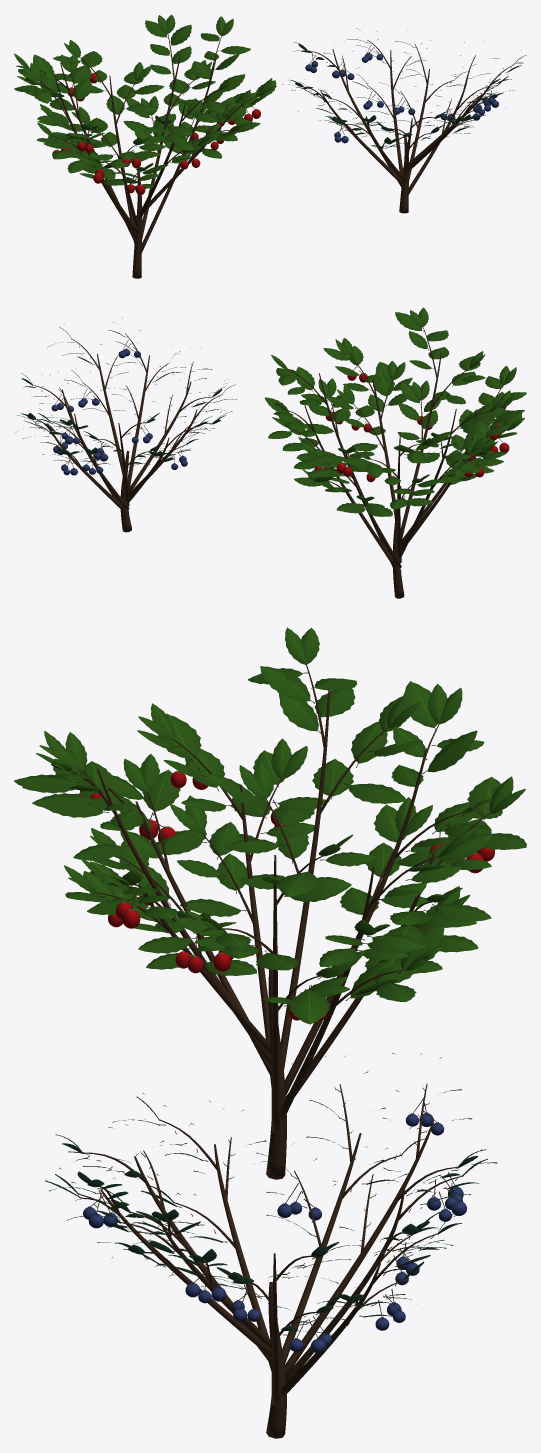
Rendered from berry_bushes_ripe.glb.
3 views of the same model, one above another, from view 1: azimuth 30°, elevation 25°; view 2: azimuth 150°, elevation 25°; view 3: azimuth 270°, elevation 25° (orthographic). The views are drawn at different scales.
Visible parts, largest first — view 1: Healing_Red_Branches_And_Leaves, Stamina_Blue_Branches_And_Leaves; view 2: Healing_Red_Branches_And_Leaves, Stamina_Blue_Branches_And_Leaves; view 3: Healing_Red_Branches_And_Leaves, Stamina_Blue_Branches_And_Leaves.
Boxes of the visible parts, left/top/right/bottom form: Healing_Red_Branches_And_Leaves: left=14, top=14, right=276, bottom=278; Stamina_Blue_Branches_And_Leaves: left=282, top=28, right=526, bottom=213; Healing_Red_Branches_And_Leaves: left=264, top=307, right=526, bottom=598; Stamina_Blue_Branches_And_Leaves: left=14, top=318, right=236, bottom=532; Healing_Red_Branches_And_Leaves: left=14, top=627, right=526, bottom=1179; Stamina_Blue_Branches_And_Leaves: left=45, top=1053, right=497, bottom=1438.
Size of the model in its own units: 1.72 by 0.7945 by 0.8044.
7 materials, 5 textured.
